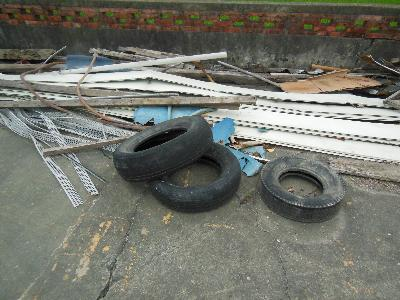tire: (112, 113, 213, 182), (148, 142, 243, 214), (256, 155, 346, 224)
